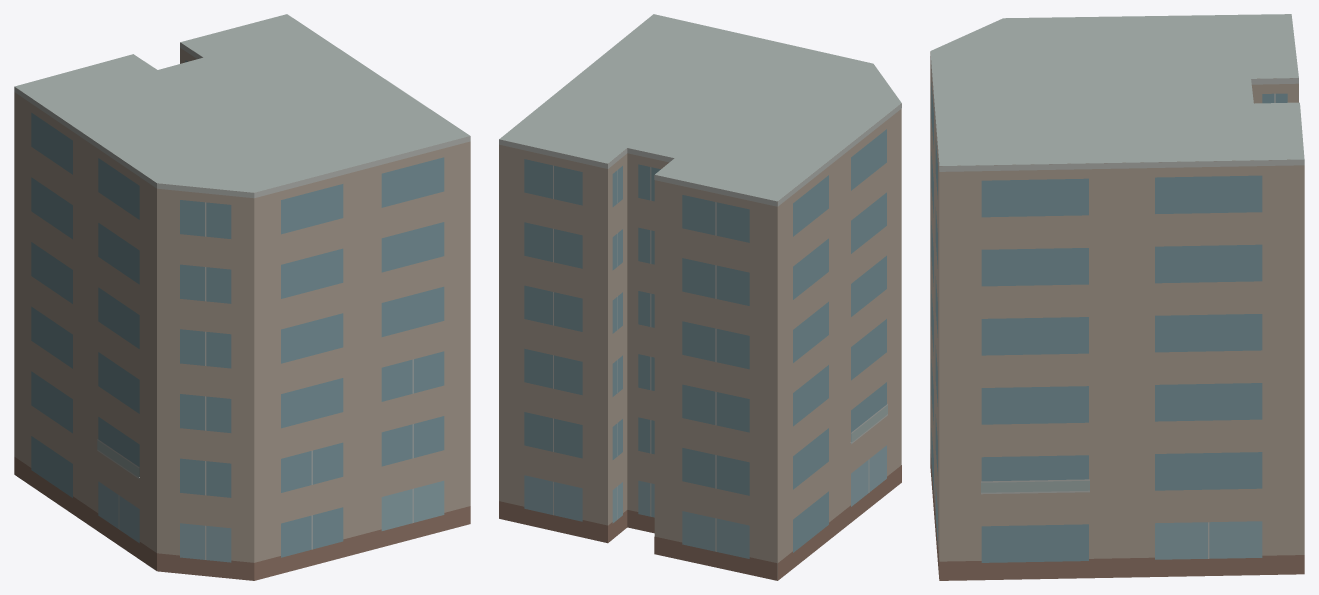
Rendered from survey-upis-32727682.glb.
The picture shows the model from 3 angles, left to right: view 1: azimuth 30°, elevation 25°; view 2: azimuth 150°, elevation 25°; view 3: azimuth 270°, elevation 25°; orthographic projection. The views are drawn at different scales.
Parts seen in each view (by area): view 1: survey-upis-32727682.tmp; view 2: survey-upis-32727682.tmp; view 3: survey-upis-32727682.tmp.
Part boxes in pixels (box(x1,y1,x2,y2)): survey-upis-32727682.tmp: box(14, 14, 470, 580); survey-upis-32727682.tmp: box(499, 14, 901, 580); survey-upis-32727682.tmp: box(930, 14, 1304, 580).
Size of the model in its own units: 13.69 by 17.4 by 14.24.
